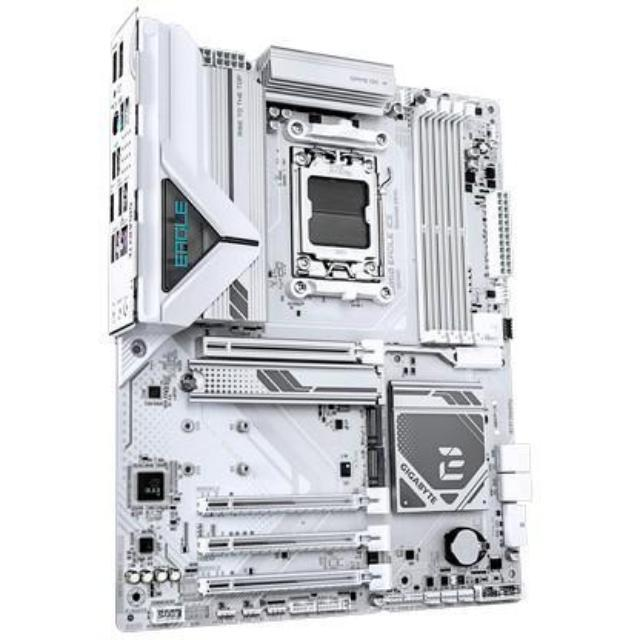Mainboard: (87, 0, 539, 634)
